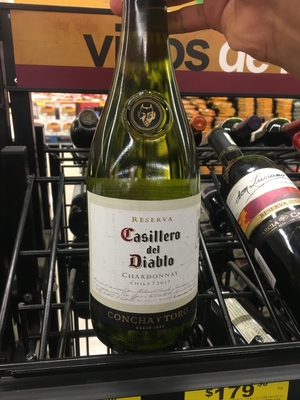casillero del diablo chardonnay: (86, 4, 202, 329)
